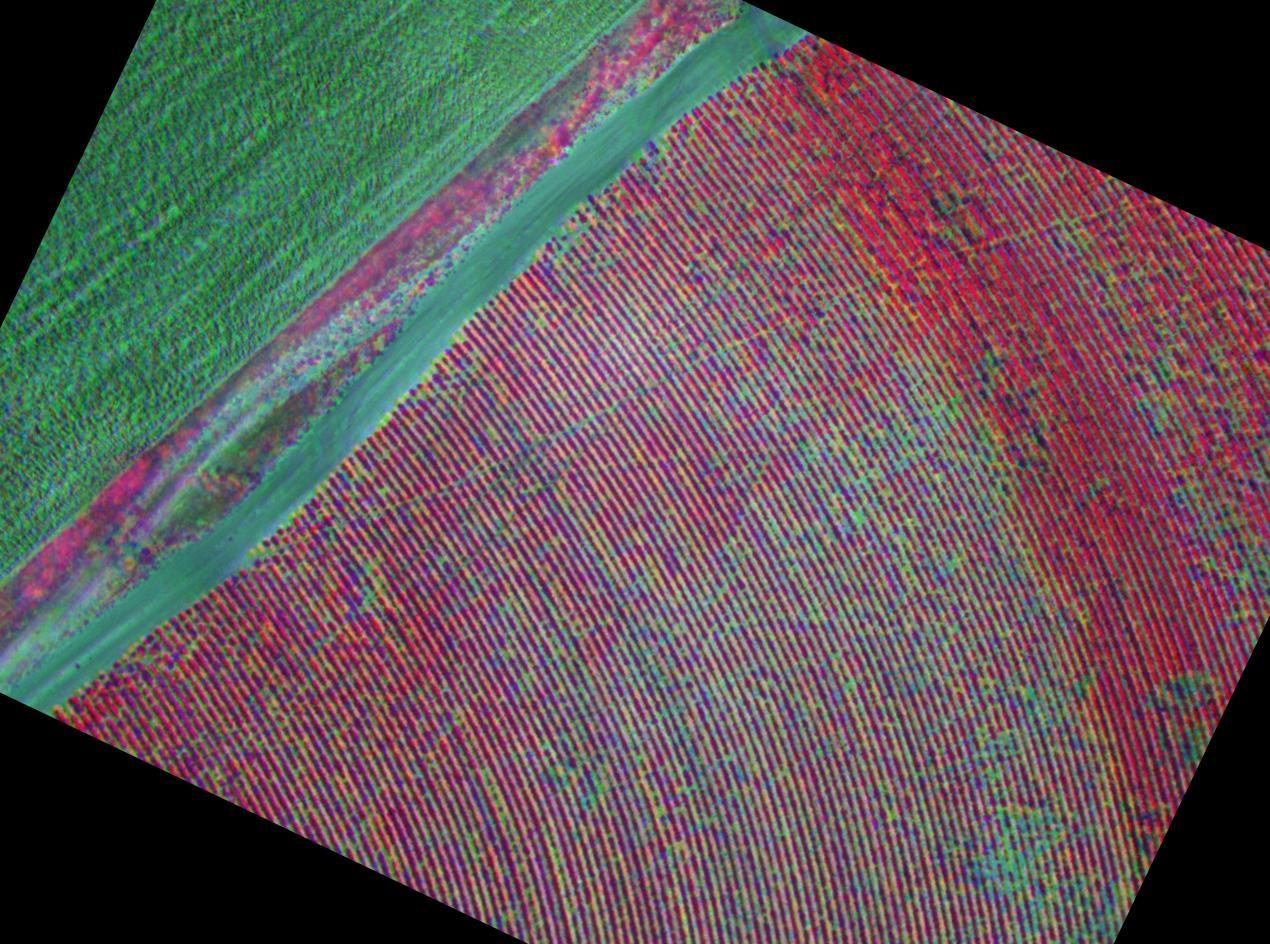dc: (935, 406, 939, 412), (364, 566, 369, 570), (1026, 691, 1030, 696), (664, 144, 668, 148), (1000, 734, 1004, 738), (838, 441, 841, 445), (953, 561, 956, 565), (1057, 220, 1060, 223), (725, 624, 729, 626)
